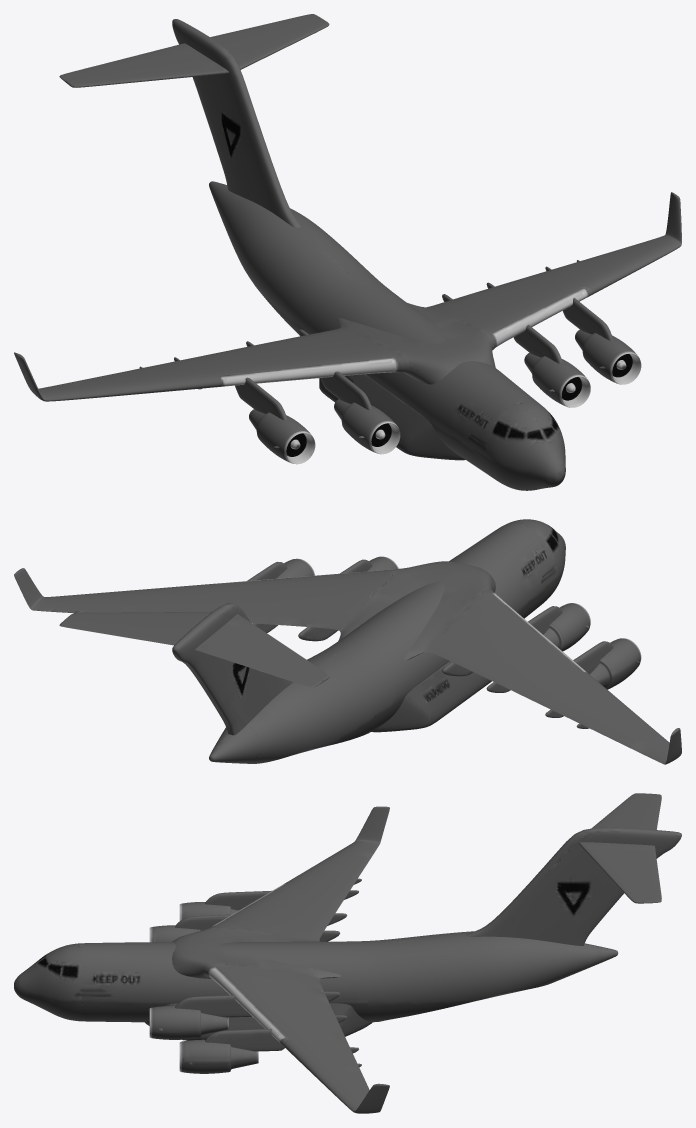
3 views of the same model, one above another, from view 1: azimuth 30°, elevation 25°; view 2: azimuth 150°, elevation 25°; view 3: azimuth 270°, elevation 25° (orthographic). The views are drawn at different scales.
Visible parts, largest first — view 1: PlaneC17; view 2: PlaneC17; view 3: PlaneC17.
Part boxes in pixels (x1,y1,x2,y2): PlaneC17: (14, 14, 681, 490); PlaneC17: (14, 519, 681, 764); PlaneC17: (14, 793, 681, 1113).
Size of the model in its own units: 60.18 by 19.28 by 60.95.
Materials: 1 (1 with a texture image).
